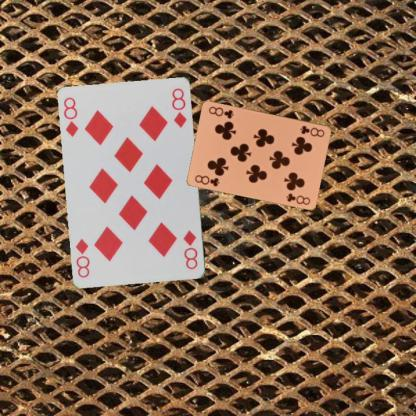8c: (192, 172, 222, 188), (297, 123, 326, 138)
8d: (181, 228, 199, 271), (62, 95, 80, 138)
